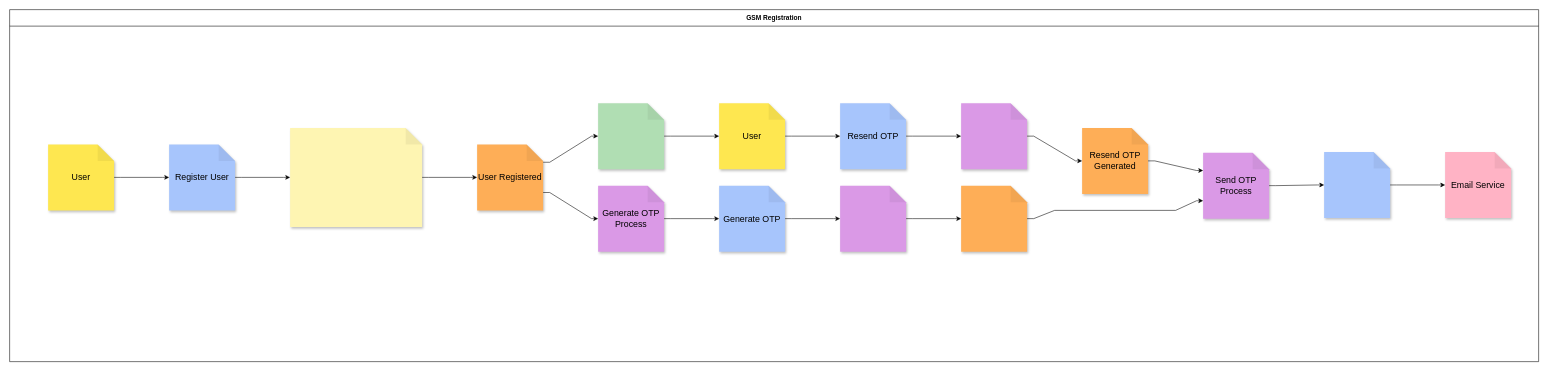
Some shapes in this 1548 by 371 pixel diagram are drawn without their labels. The shapes that lost their labels are listed below. From the top down, each one's centre as x and y in pixels, then its label:
pixel 631 137: Draft User Profile
pixel 994 137: Resend OTP Process
pixel 356 177: Policy1
pixel 1357 185: Send OTP
pixel 873 219: Validate OTP Process
pixel 994 219: Register OTP Generated
